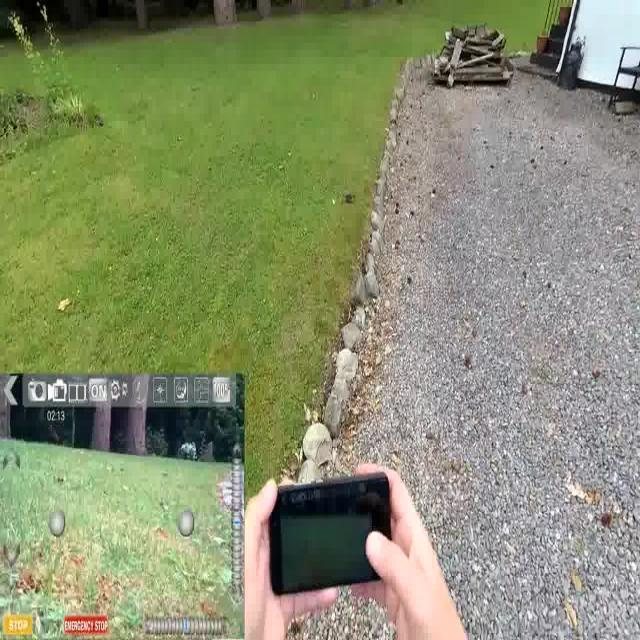drones: (337, 178, 361, 216)
